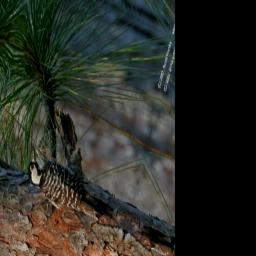Woodpecker: (19, 143, 125, 249)
